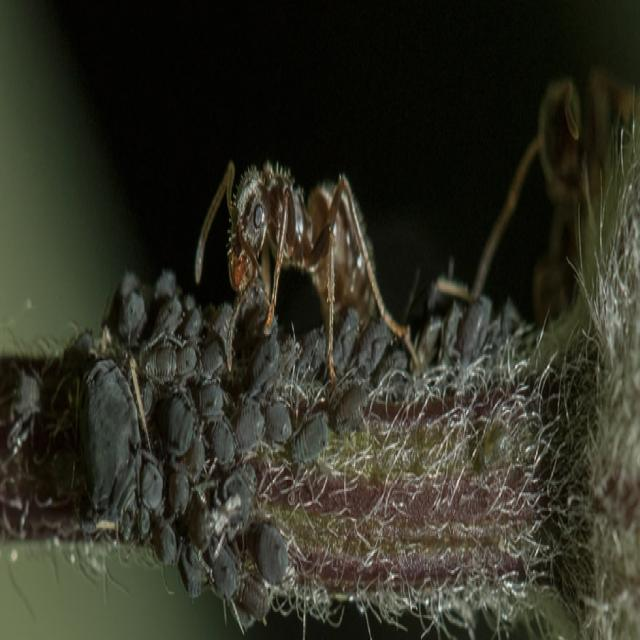Aphid-Grouped-: (108, 262, 353, 602)
